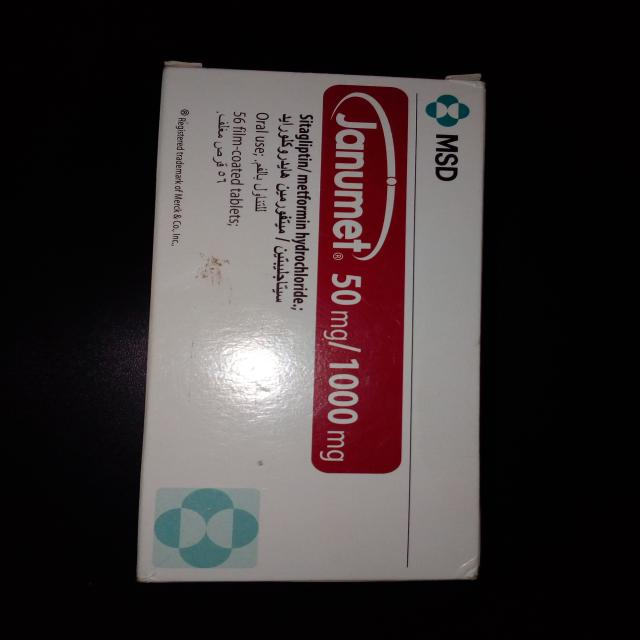Medicine: (137, 62, 481, 582)
